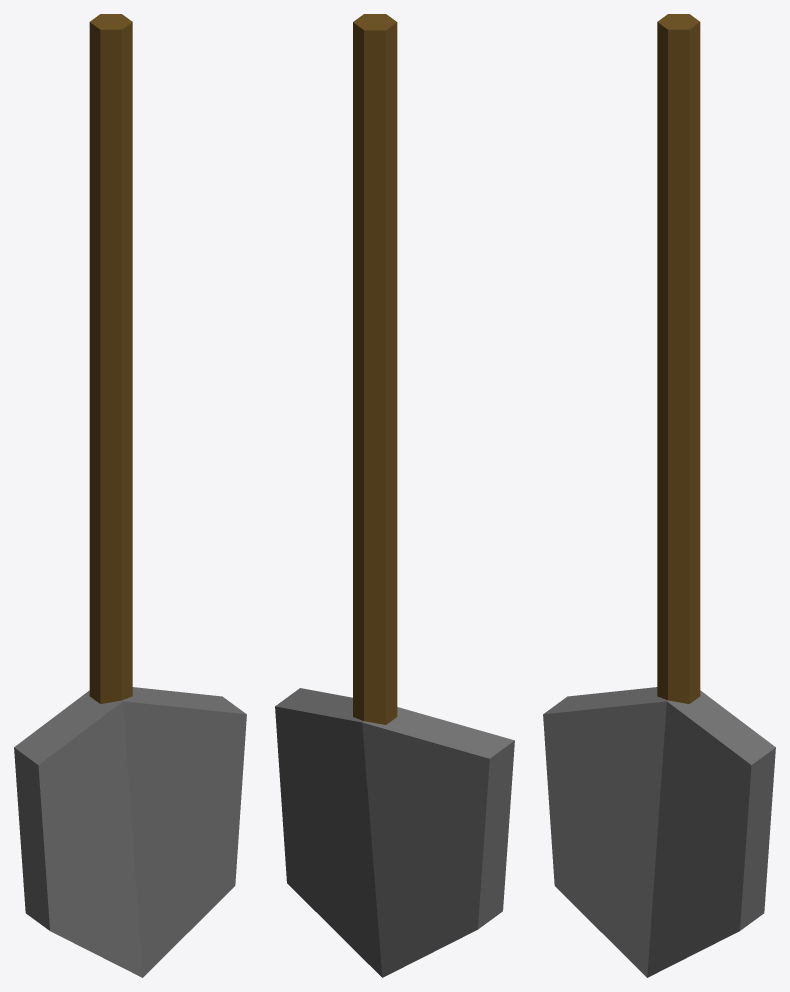
Rendered from Shovel.fbx.
3 renders of one model, left to right at view 1: azimuth 30°, elevation 25°; view 2: azimuth 150°, elevation 25°; view 3: azimuth 330°, elevation 25°, orthographic. The views are drawn at different scales.
Visible parts, largest first — view 1: Shovelhead, Handle; view 2: Shovelhead, Handle; view 3: Shovelhead, Handle.
Part boxes in pixels (x1,y1,x2,y2): Shovelhead: (14,687,246,977); Handle: (89,14,132,703); Shovelhead: (275,688,514,977); Handle: (353,14,397,724); Shovelhead: (543,687,775,977); Handle: (657,14,700,703).
Size of the model in its own units: 155 by 661 by 56.56.
